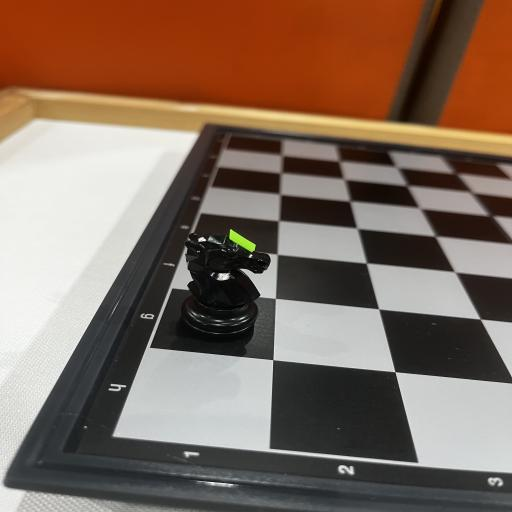Black knight: (181, 229, 271, 341)
